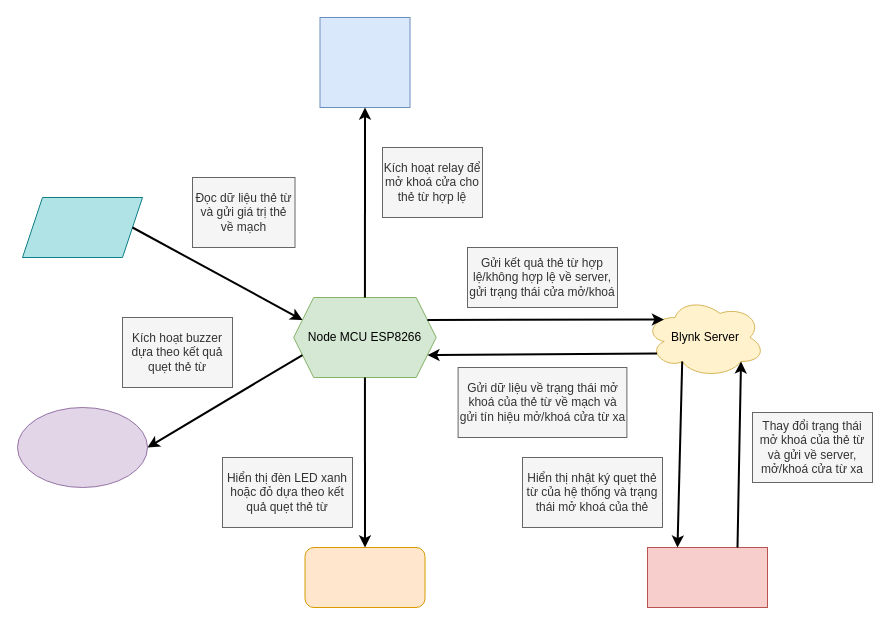
Image size: 890x625. Some labels were removed from this diagram. The shapes that lost their labels are listed below. From the top down, each one's centre as x and y in pixels, then its label:
At (x=364, y=62): "Relay Module (Solenoid Lock)".
At (x=82, y=227): "RFID RC522".
At (x=82, y=447): "Buzzer".
At (x=364, y=577): "LED".
At (x=707, y=577): "Blynk App".
